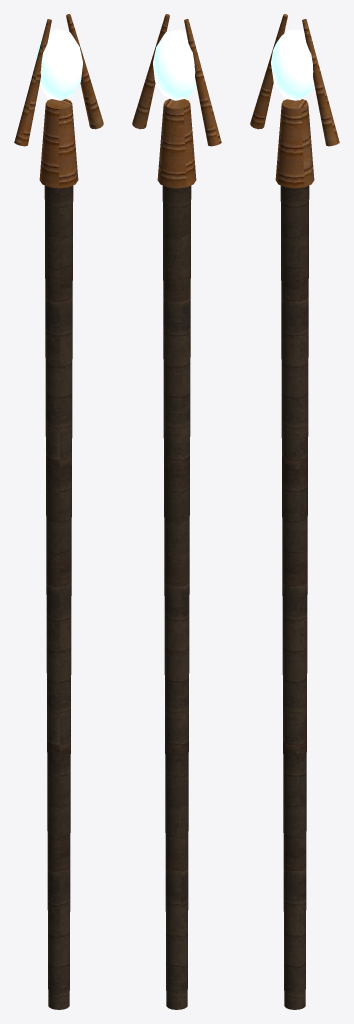
Rendered from wpn_oblivion_staff.glb.
3 views of the same model, side by side, from view 1: azimuth 30°, elevation 25°; view 2: azimuth 150°, elevation 25°; view 3: azimuth 330°, elevation 25° (orthographic).
Parts seen in each view (by area): view 1: WPN_StaffOfOblivion; view 2: WPN_StaffOfOblivion; view 3: WPN_StaffOfOblivion.
Boxes of the visible parts, x1,y1,x2,y2 form: WPN_StaffOfOblivion: (14, 14, 103, 1009); WPN_StaffOfOblivion: (132, 14, 221, 1009); WPN_StaffOfOblivion: (250, 14, 339, 1009).
Bounding box in the file's own units: 0.1665 × 1.8 × 0.0816.
3 materials, 2 textured.
